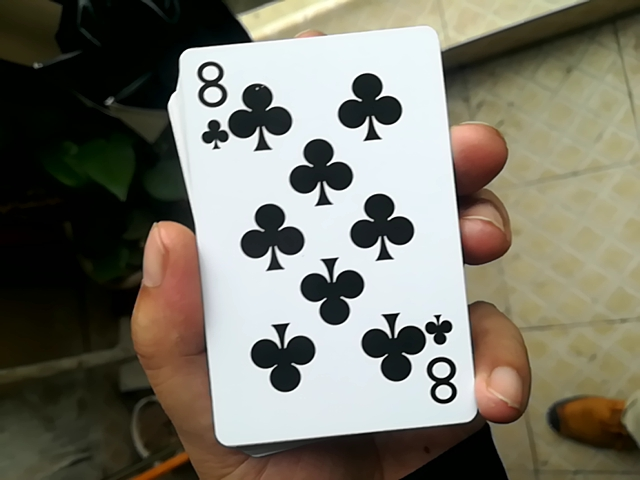mh 8: (150, 23, 468, 445)
